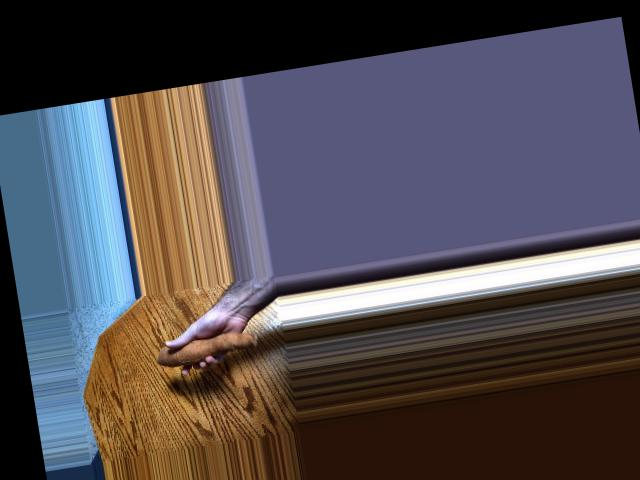sweet_potato: (144, 316, 264, 373)
